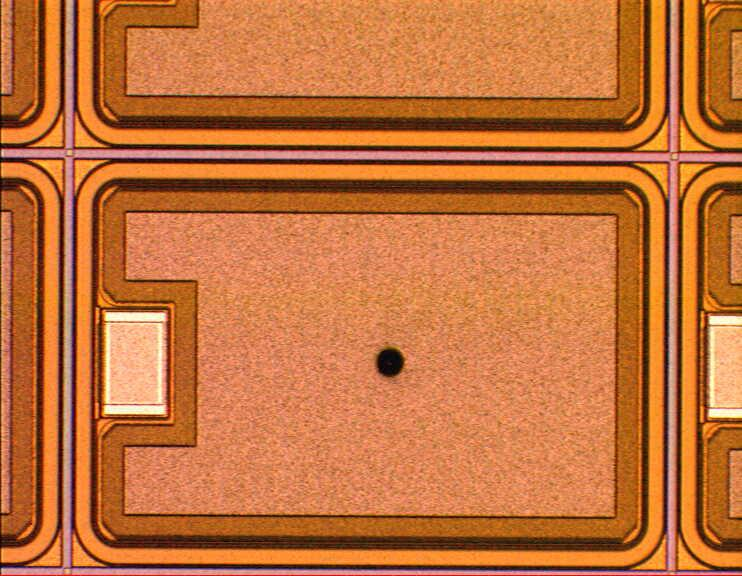PARTICLE: (372, 344, 412, 384)
